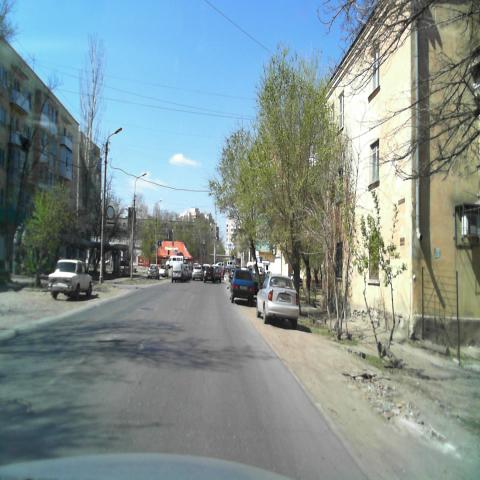3_2: (106, 205, 114, 219)
